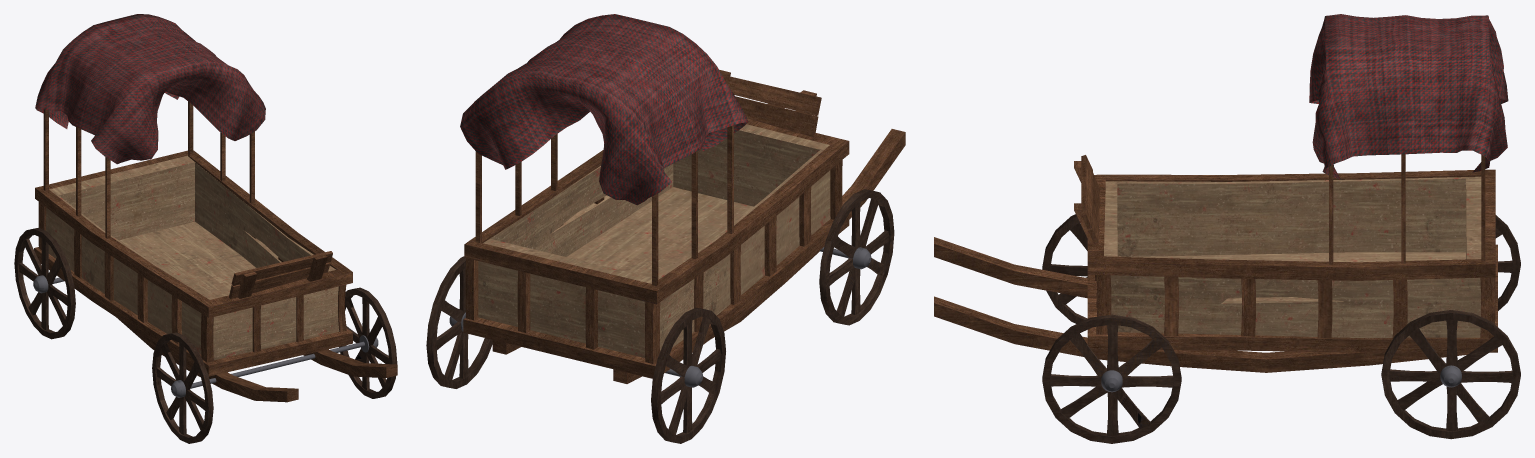
Rendered from Carreta.fbx.
3 renders of one model, left to right at view 1: azimuth 30°, elevation 25°; view 2: azimuth 150°, elevation 25°; view 3: azimuth 270°, elevation 25°, orthographic. The views are drawn at different scales.
Parts seen in each view (by area): view 1: pPlane3; view 2: pPlane3; view 3: pPlane3.
Part boxes in pixels (box(x1,y1,x2,y2)): pPlane3: box(14, 14, 397, 443); pPlane3: box(426, 14, 905, 443); pPlane3: box(934, 14, 1520, 443).
Bounding box in the file's own units: 3.22 × 4.34 × 6.49.
6 materials, 5 textured.
